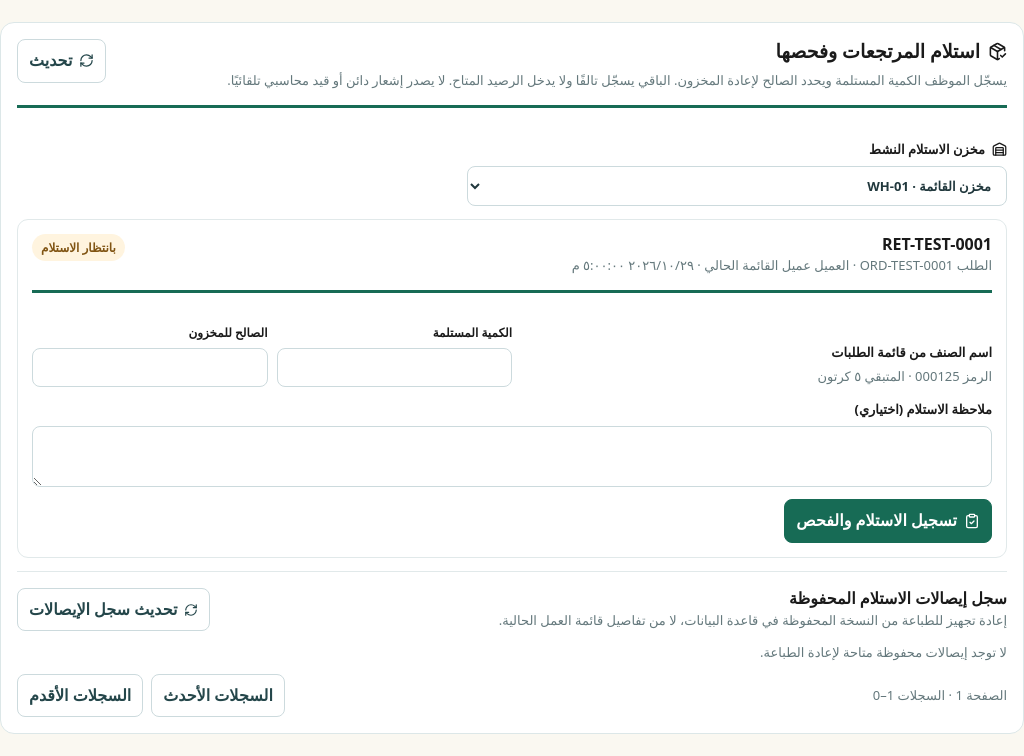
it: warehouse return receipt printing › uses only the server-persisted receipt snapshot for the printable document
The width and height of the screenshot is (1024, 756).
Expected: the text "اسم الصنف من قائمة الطلبات" is shown, [831,343,992,361]
Type "1.25" into the number field labelled "الكمية المستلمة".
click(394, 367); type("1.25")  # box [276,348,512,387]
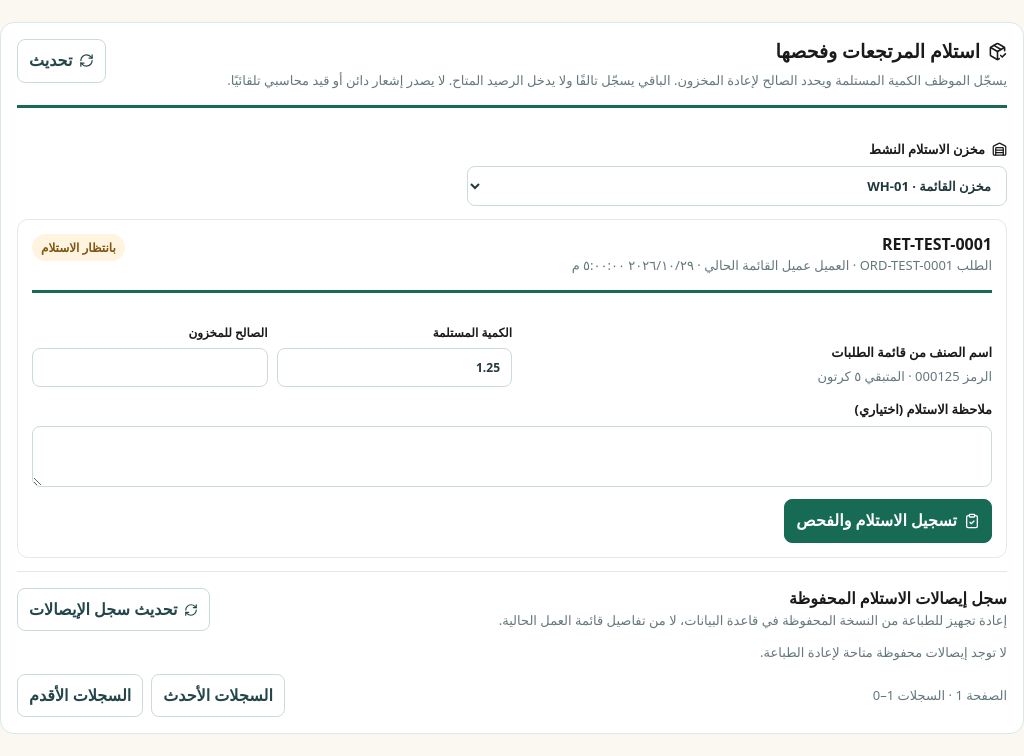
Type "1" into the number field labelled "الصالح للمخزون".
click(150, 367); type("1")  # box [32,348,268,387]
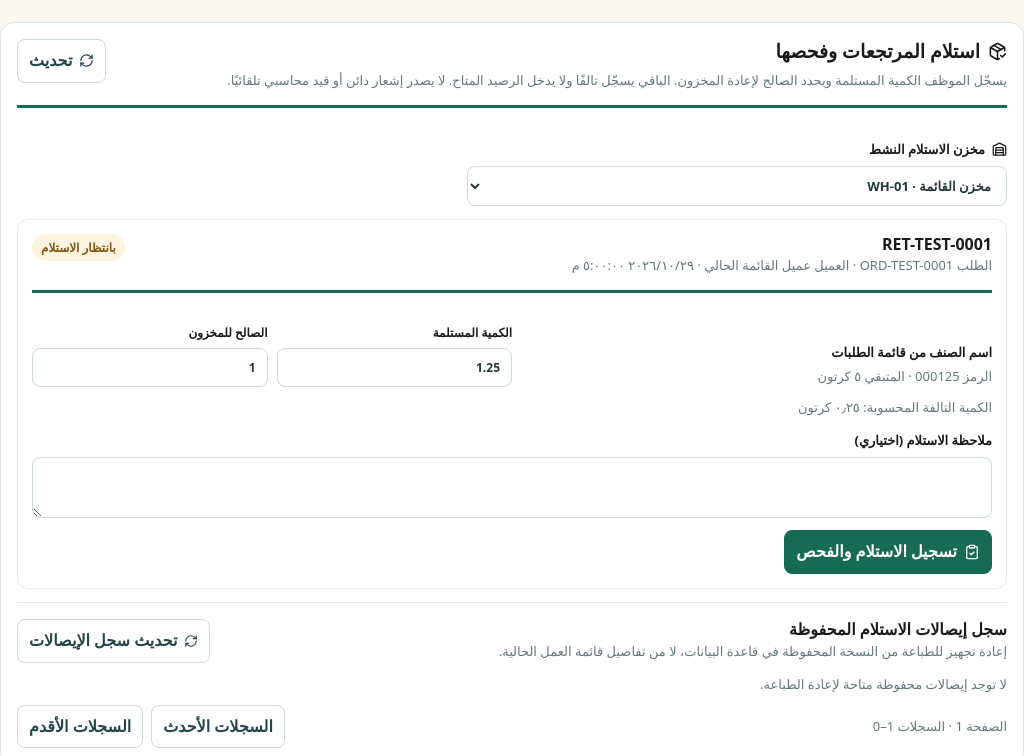
Click the button "تسجيل الاستلام والفحص".
click(888, 552)  # box [784,530,992,574]
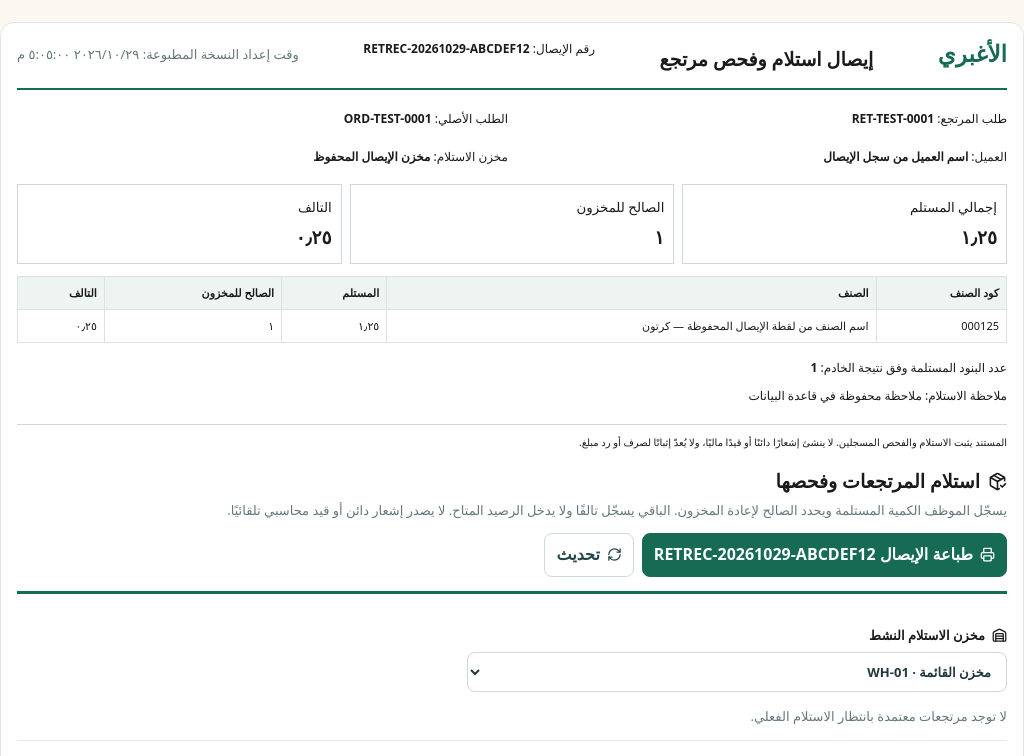
Expected: the button "طباعة الإيصال RETREC-20261029-ABCDEF12" is shown, [642,533,1007,577]
Expected: the element with class "return-receipt-print" is shown, [17,39,1007,456]
Expected: the element with class "return-receipt-print" shows "اسم العميل من سجل الإيصال", [823,148,968,165]
